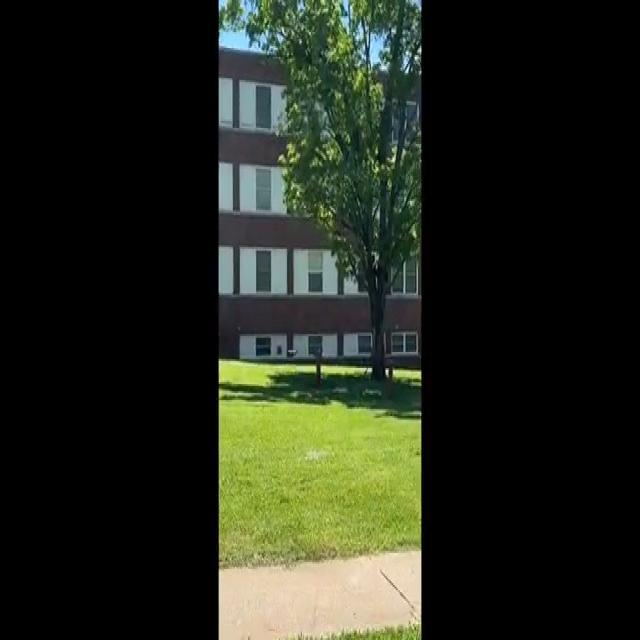drone: (284, 342, 302, 360)
